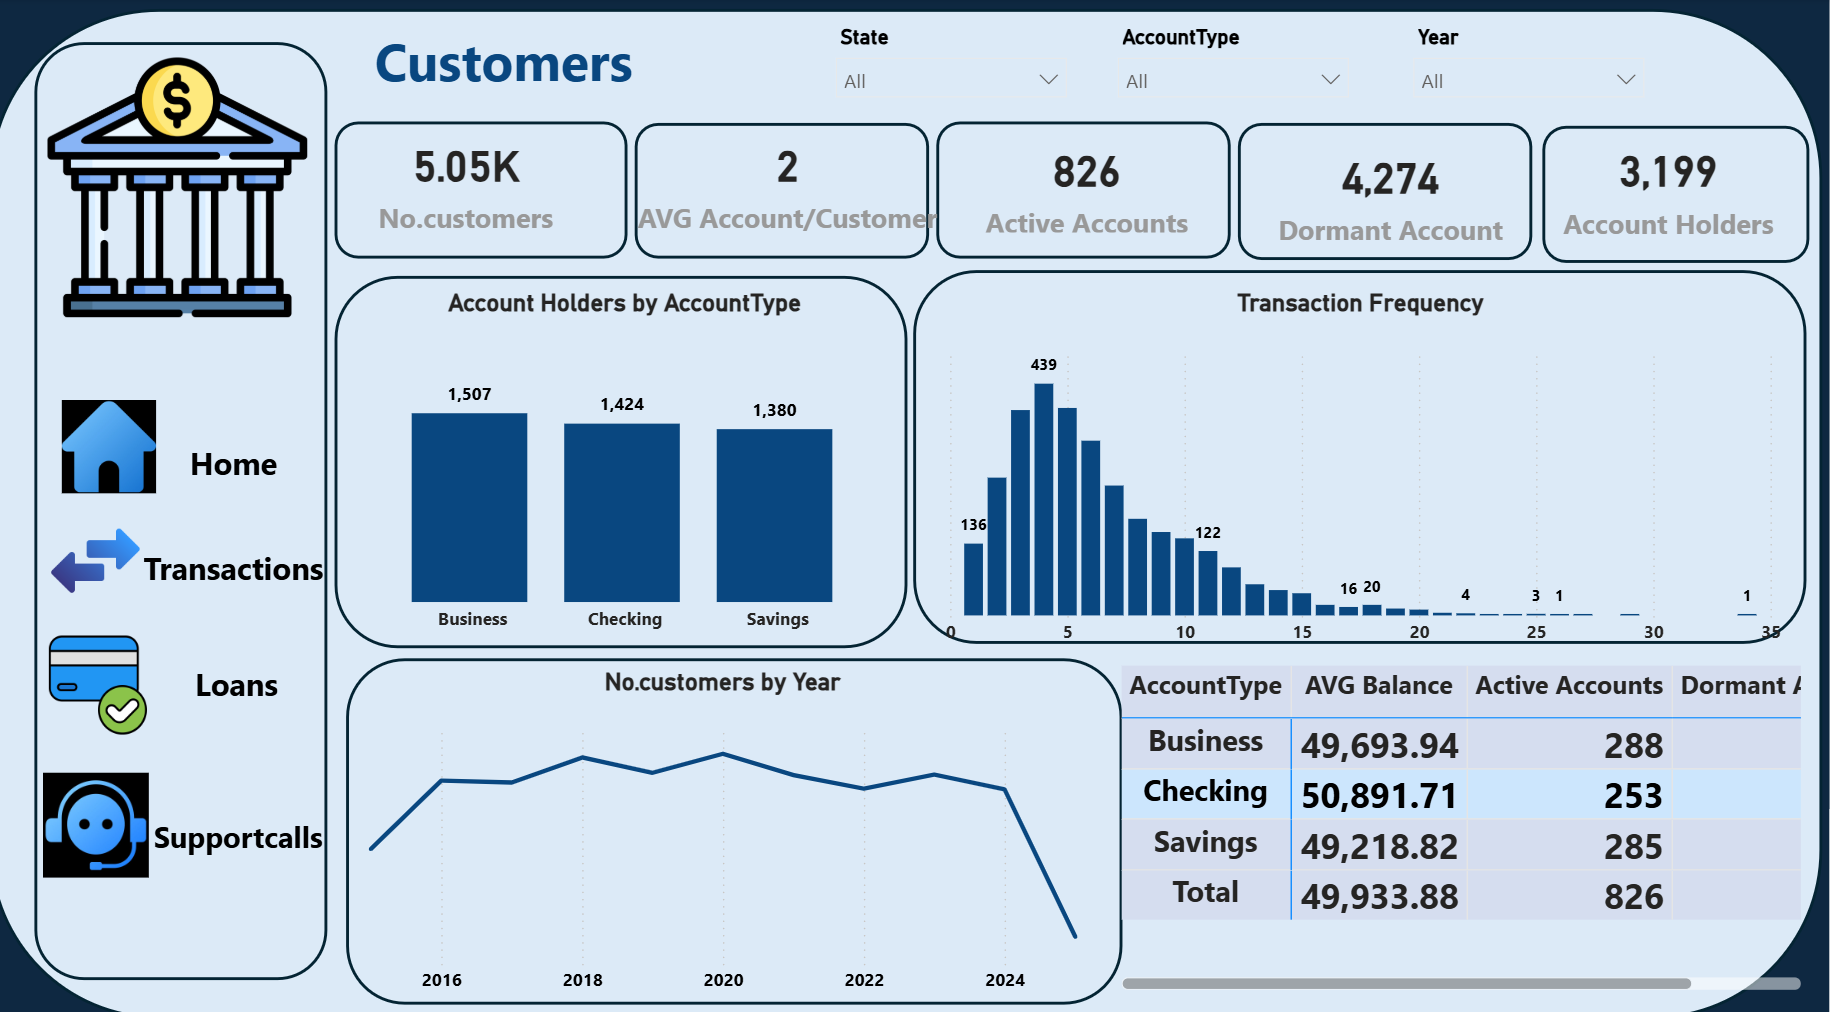

This screenshot's page, from the dashboard's own definition file:
{"tool":"powerbi","page":{"name":"Customers","canvas":[1280,720],"ordinal":1},"visuals":[{"type":"card","fields":{"Values":["Calculation Overview.No.customers"]},"box":[257.2,89.2,154.9,75.2],"z":0},{"type":"card","fields":{"Values":["Calculation Customer Service.Account Holders"]},"box":[1084.6,84.6,166.9,92.7],"z":1000},{"type":"card","fields":{"Values":["Calculation Customer Service.Active Accounts"]},"box":[687.1,92.7,154.9,75.2],"z":2000},{"type":"card","fields":{"Values":["Calculation Customer Service.Dormant Account"]},"box":[888.7,92.7,172.7,84.6],"z":3000},{"type":"card","fields":{"Values":["Calculation Customer Service.AVG Customer Have Account"]},"box":[440.3,84.6,232.9,84.6],"z":4000},{"type":"lineClusteredColumnComboChart","title":"Transaction Frequency","fields":{"Y":["Calculation Overview.No.customers"],"Category":["customers.Number Transaction"]},"box":[658.2,200.5,593.3,257.2],"z":5000},{"type":"lineChart","fields":{"Y":["Calculation Overview.No.customers"],"Category":["Calender.Date.Variation.Date Hierarchy.Year","Calender.Date.Variation.Date Hierarchy.Quarter","Calender.Date.Variation.Date Hierarchy.Month","Calender.Date.Variation.Date Hierarchy.Day"]},"box":[249.1,463.5,526.1,235.2],"z":6000},{"type":"lineClusteredColumnComboChart","fields":{"Y":["Calculation Customer Service.Account Holders"],"Category":["Accounts.AccountType"]},"box":[249.1,200.5,390.5,248],"z":7000},{"type":"pivotTable","fields":{"Values":["Calculation Customer Service.AVG Balance","Calculation Customer Service.Active Accounts","Calculation Customer Service.Dormant Account"],"Rows":["Accounts.AccountType","Calender.Date.Variation.Date Hierarchy.Year","Calender.Date.Variation.Date Hierarchy.Quarter","Calender.Date.Variation.Date Hierarchy.Month","Calender.Date.Variation.Date Hierarchy.Day"]},"box":[783.3,457.7,480.9,235.2],"z":8000},{"type":"image","box":[44.4,41,180,181.1],"z":9000},{"type":"image","box":[33.6,358,89.2,64.9],"z":10000},{"type":"image","box":[34.8,441.5,90.4,68.4],"z":11000},{"type":"image","box":[41.7,531.9,73,82.3],"z":12000},{"type":"shape","box":[107.8,372,130.9,44],"z":13000},{"type":"shape","box":[110.1,453.1,130.9,42.9],"z":14000},{"type":"shape","box":[110.1,559.7,133.3,44],"z":15000},{"type":"slicer","fields":{"Values":["Calender.Year"]},"box":[980.8,13.7,180,59.2],"z":16000},{"type":"slicer","fields":{"Values":["Accounts.AccountType"]},"box":[776.9,13.7,180,59.2],"z":17000},{"type":"slicer","fields":{"Values":["customers.State"]},"box":[581,13.7,180,59.2],"z":18000},{"type":"shape","box":[107.8,299,130.9,44],"z":19000},{"type":"image","box":[42.9,278.1,89.2,64.9],"z":20000},{"type":"shape","box":[246.1,13.7,229,59.2],"z":21000}]}

Visuals, with their boxes in screenshot pixels (x1, y1, x2, y2), scaled from the page's 1280x720 canvas onto the 1830x1012 screenshot:
card - Calculation Overview.No.customers: select_region(368, 125, 589, 231)
card - Calculation Customer Service.Account Holders: select_region(1551, 119, 1789, 249)
card - Calculation Customer Service.Active Accounts: select_region(982, 130, 1204, 236)
card - Calculation Customer Service.Dormant Account: select_region(1271, 130, 1517, 249)
card - Calculation Customer Service.AVG Customer Have Account: select_region(629, 119, 962, 238)
"Transaction Frequency" lineClusteredColumnComboChart: select_region(941, 282, 1789, 643)
lineChart - Calculation Overview.No.customers x Calender.Date.Variation.Date Hierarchy.Year: select_region(356, 651, 1108, 982)
lineClusteredColumnComboChart - Calculation Customer Service.Account Holders x Accounts.AccountType: select_region(356, 282, 914, 630)
pivotTable - Calculation Customer Service.AVG Balance x Calculation Customer Service.Active Accounts: select_region(1120, 643, 1807, 974)
image: select_region(63, 58, 321, 312)
image: select_region(48, 503, 176, 594)
image: select_region(50, 621, 179, 717)
image: select_region(60, 748, 164, 863)
shape: select_region(154, 523, 341, 585)
shape: select_region(157, 637, 345, 697)
shape: select_region(157, 787, 348, 849)
slicer - Calender.Year: select_region(1402, 19, 1660, 102)
slicer - Accounts.AccountType: select_region(1111, 19, 1368, 102)
slicer - customers.State: select_region(831, 19, 1088, 102)
shape: select_region(154, 420, 341, 482)
image: select_region(61, 391, 189, 482)
shape: select_region(352, 19, 679, 102)
